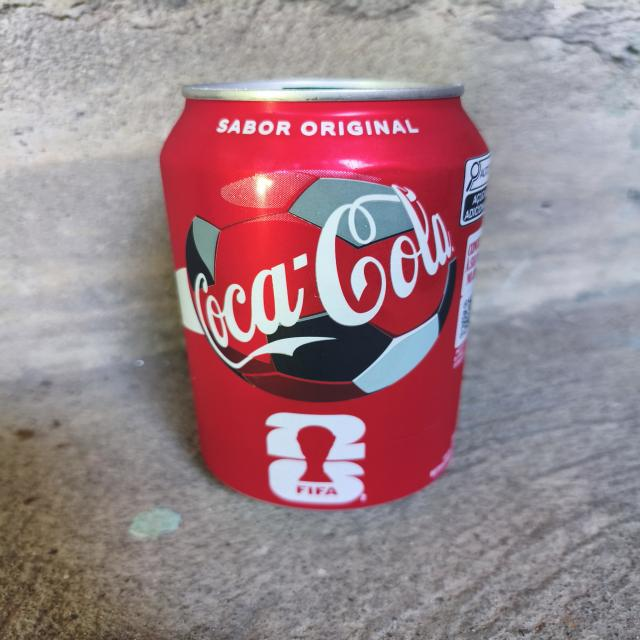Coca Cola: (148, 56, 528, 531)
